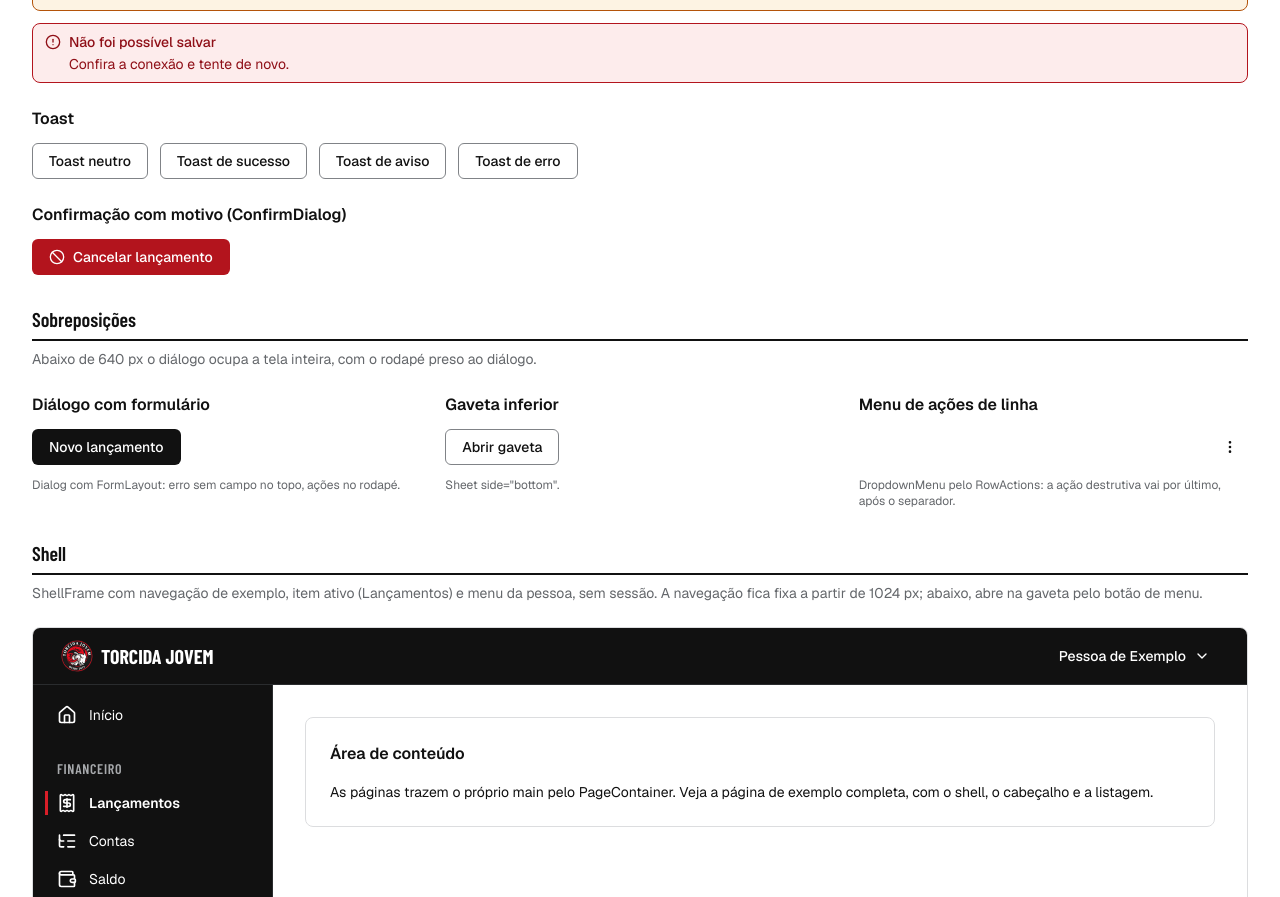
Test: sobreposições › o diálogo abre com o formulário em FormLayout e acusa os campos ao salvar vazio
(page scrolled)
Click the button "Novo lançamento" at (106, 447), box [32, 429, 181, 465]
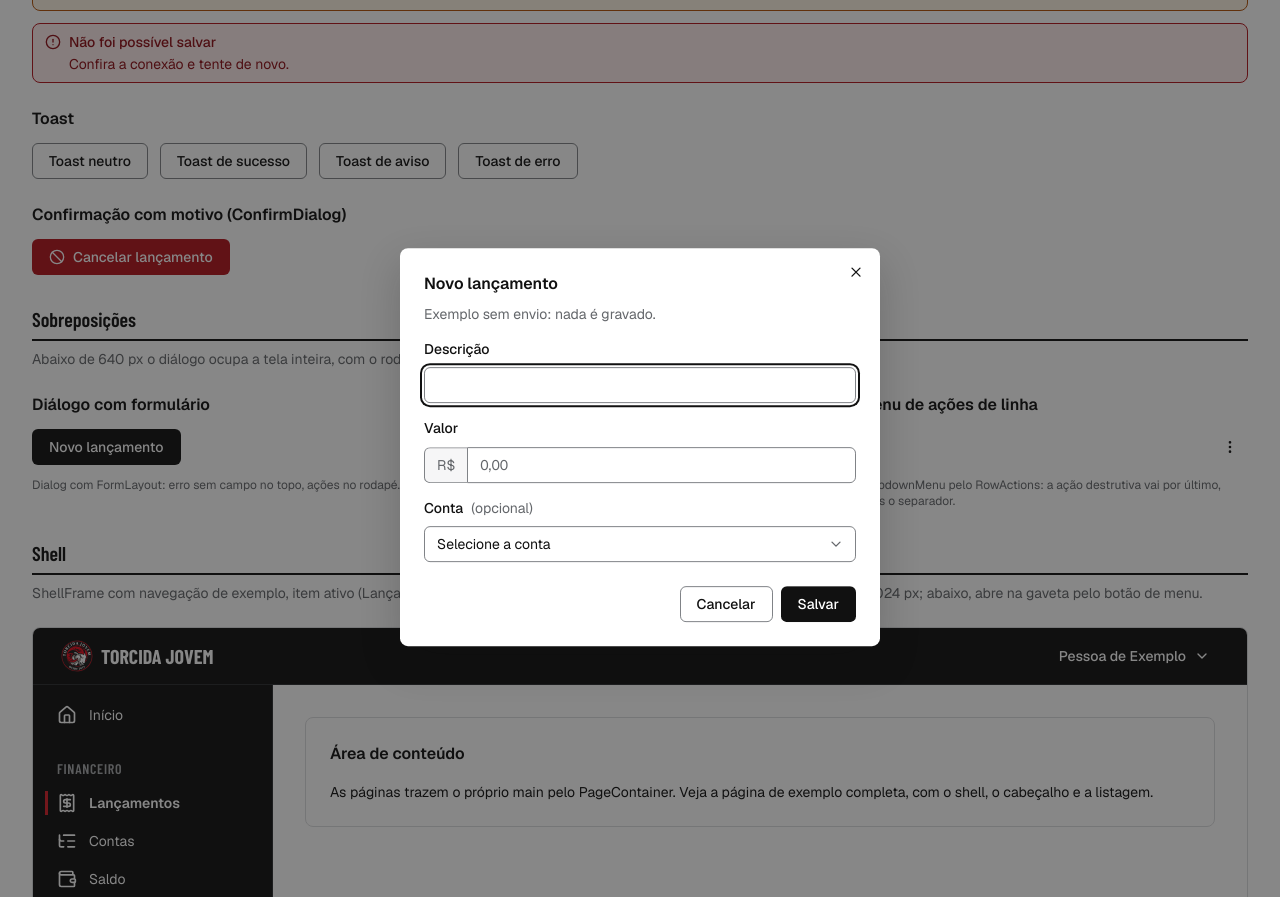
Check: the form is shown, box [424, 340, 856, 622]
Click the button "Salvar" at (818, 604), box [780, 586, 856, 622]
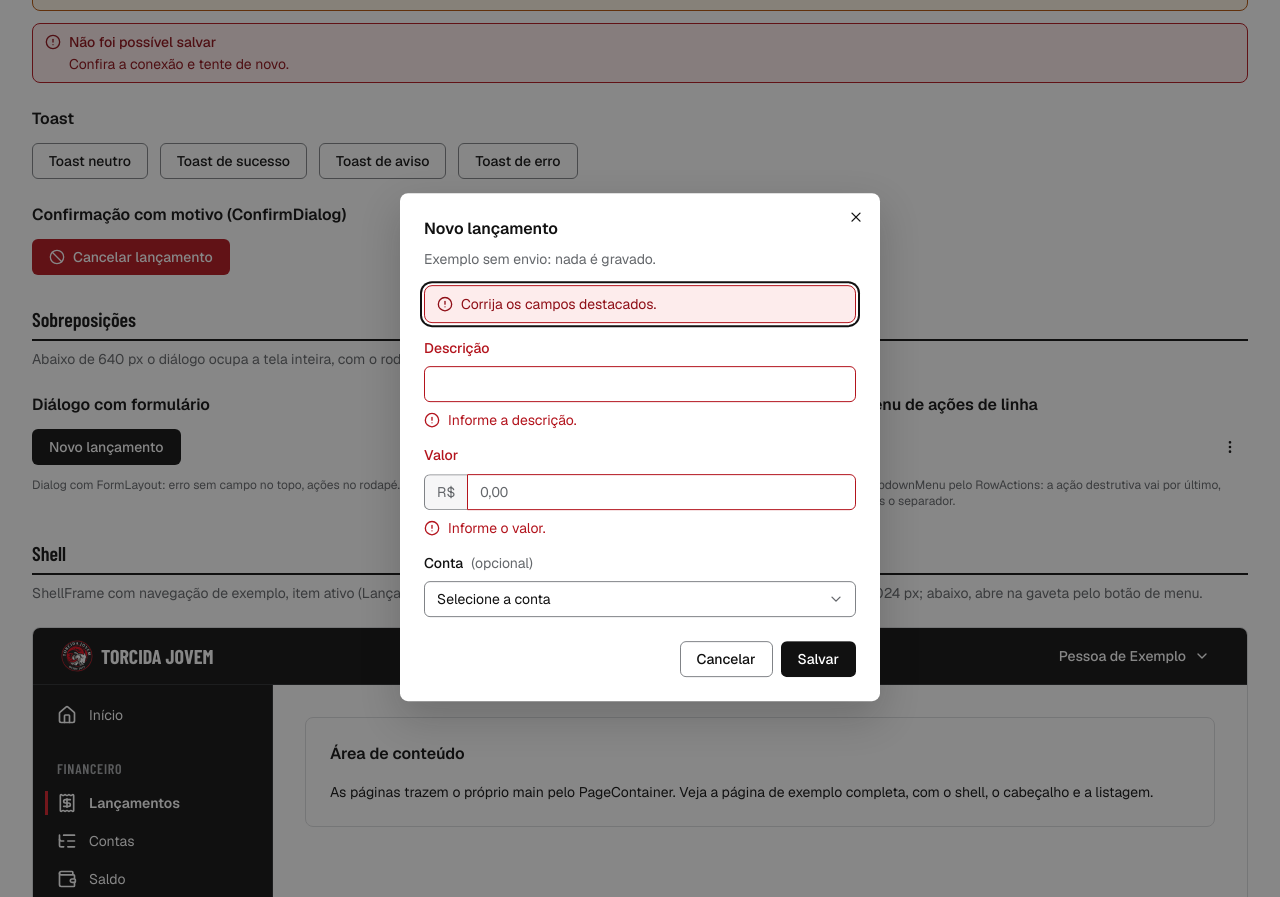
Check: the text "Informe a descrição." is shown, box [424, 411, 577, 429]
Check: the text "Corrija os campos destacados." is shown, box [461, 295, 656, 313]
